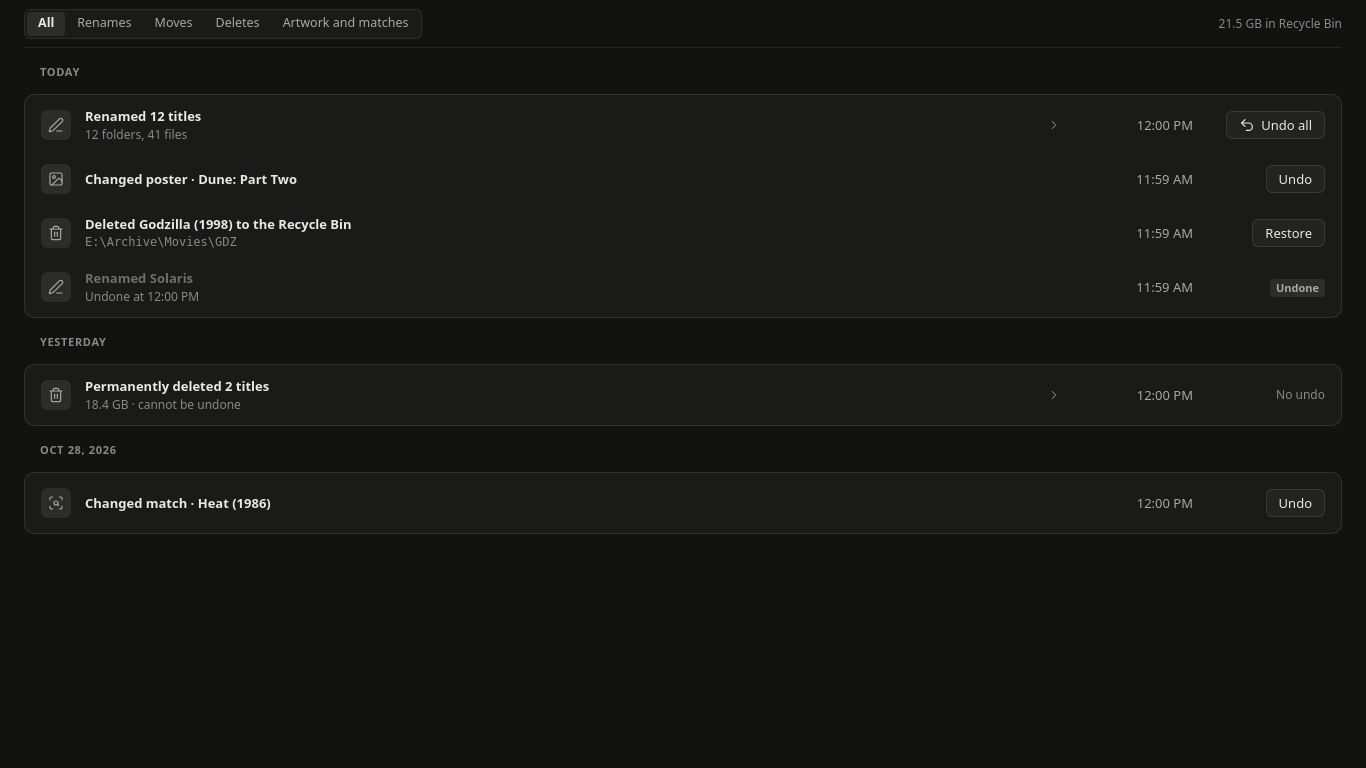
Test: the History page › undoes an entry from its button and shows it as Undone
The image size is (1366, 768).
Expected: the text "Renamed 12 titles" is shown, [85,107,201,125]
Click the button with aria-label "Undo:" at point(1295, 179), box [1266,165,1325,193]
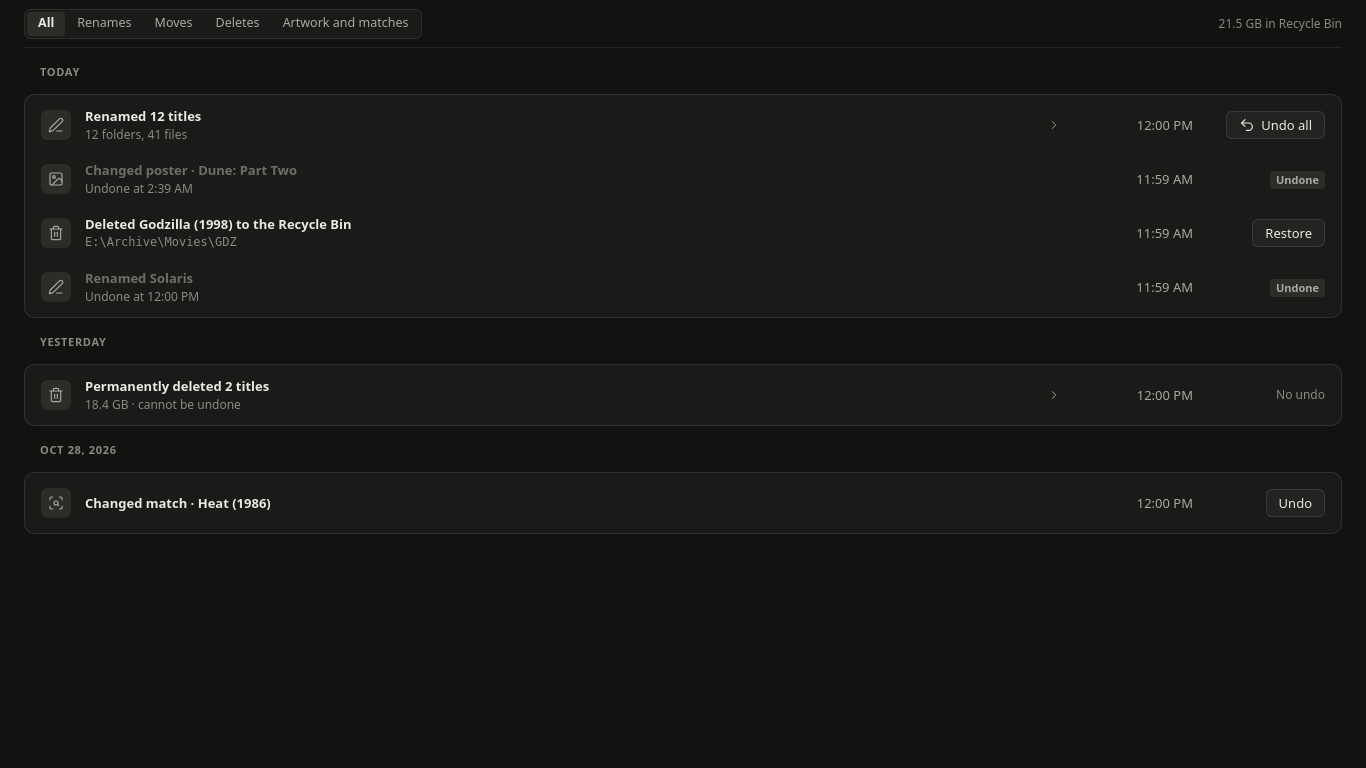
Now the text "Undone" in the row of "Changed poster · Dune: Part Two" is shown, box [1276,172,1319,187]
